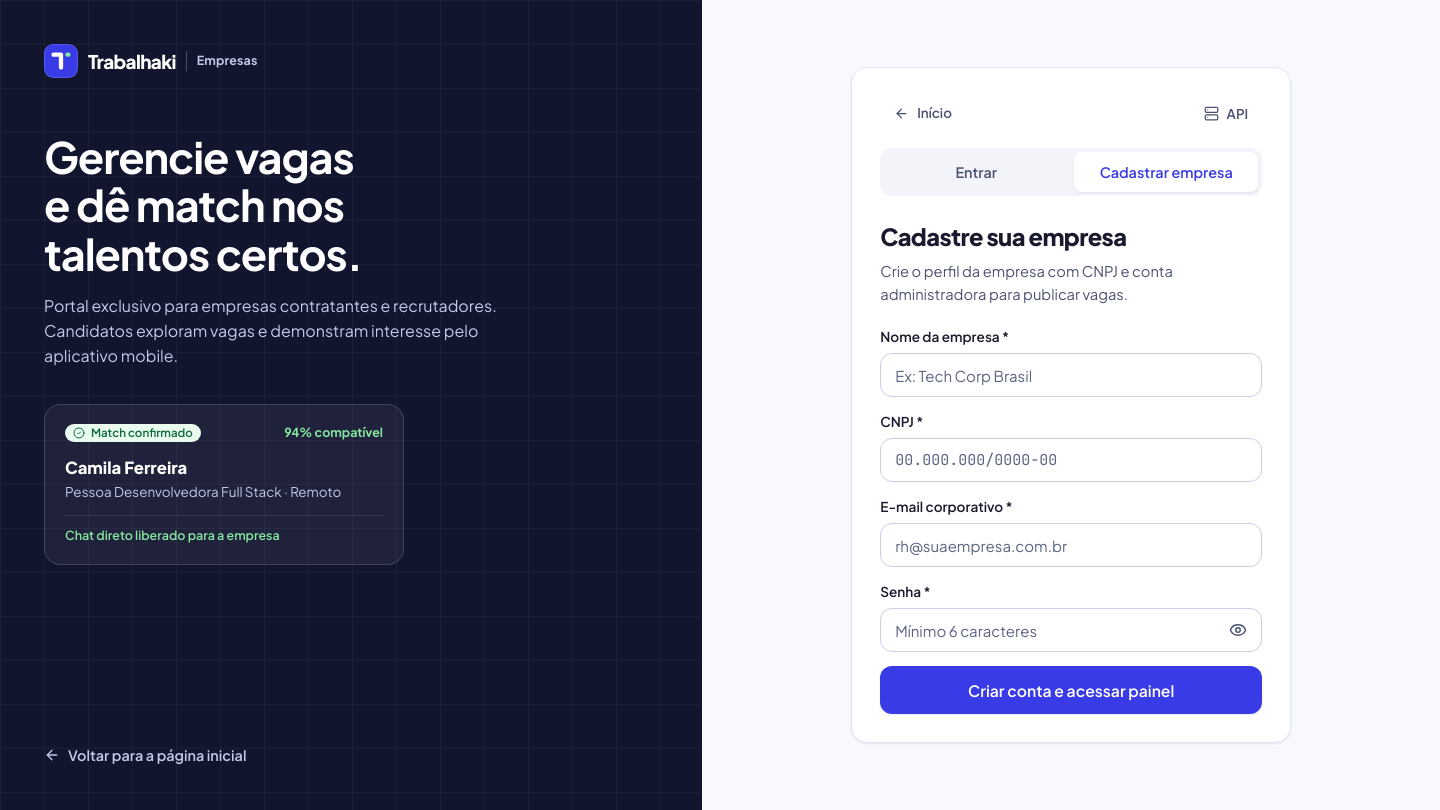
it: Trabalhaki Empresas Web Portal › validates invalid CNPJ on company registration
The image size is (1440, 810).
Type "Empresa Nova" into the field labelled "Nome da empresa *" at (1071, 375), box [880,353,1262,397]
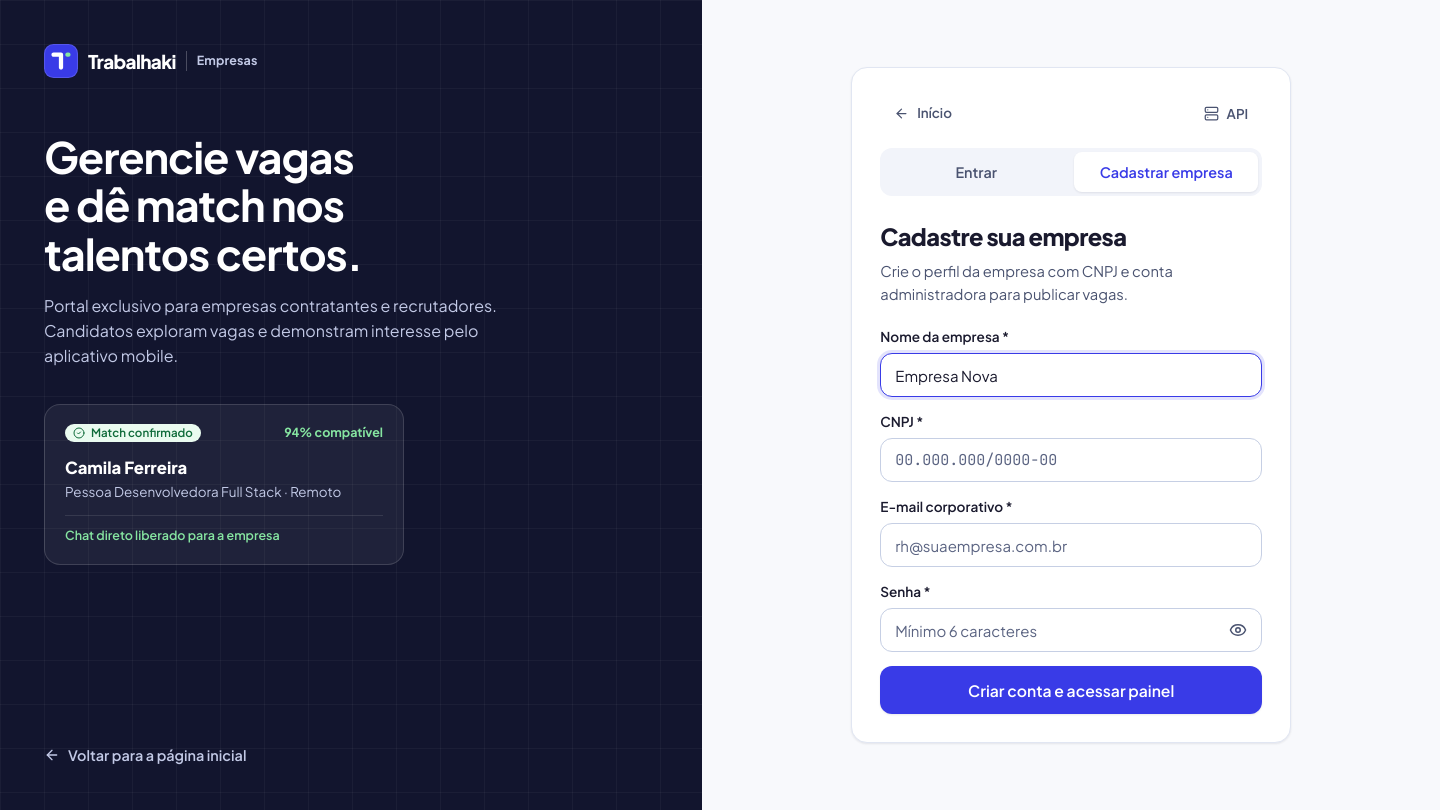
Type "11111111111111" into the field labelled "CNPJ *" at (1071, 460), box [880,438,1262,482]
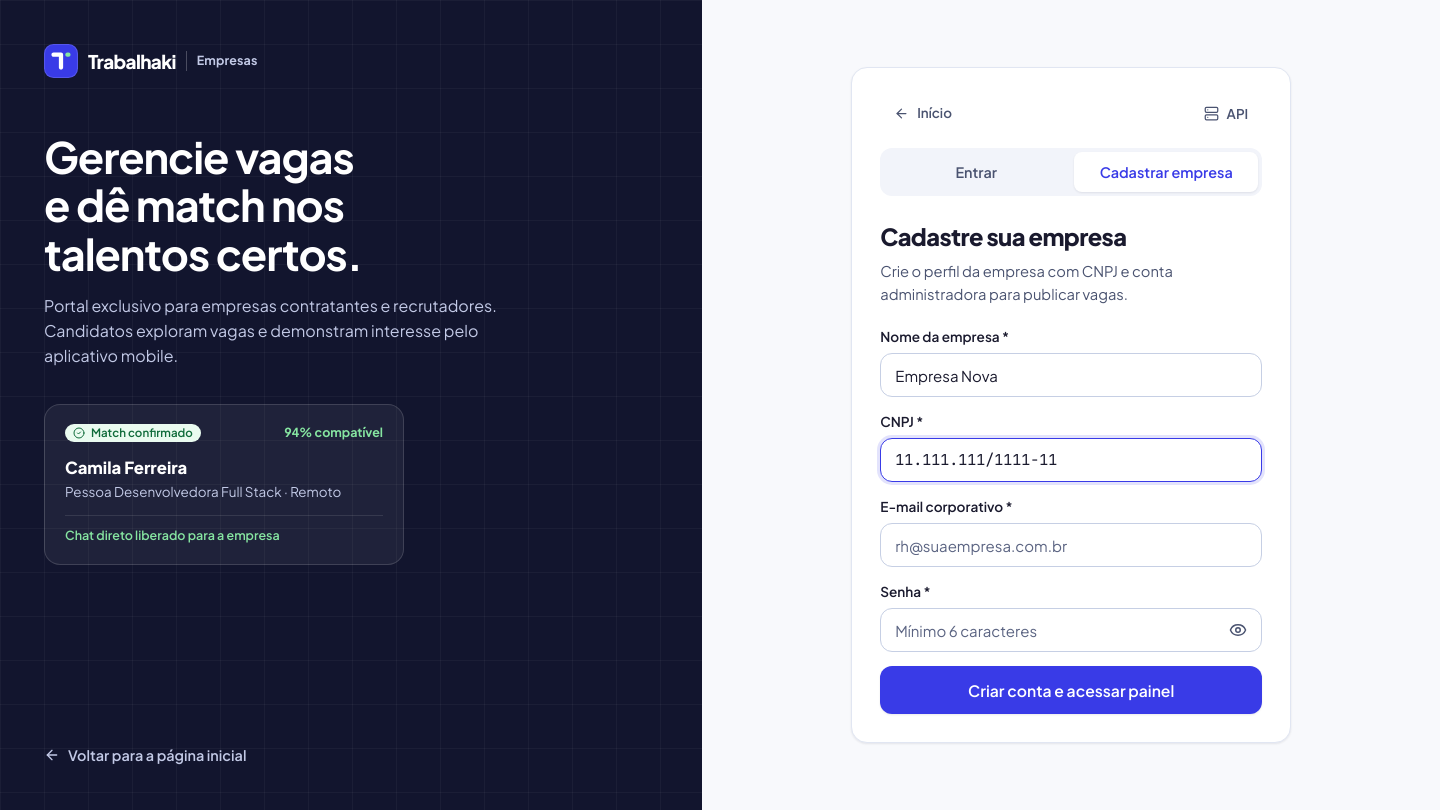
Type "rh@nova.com" into the field labelled "E-mail corporativo *" at (1071, 545), box [880,523,1262,567]
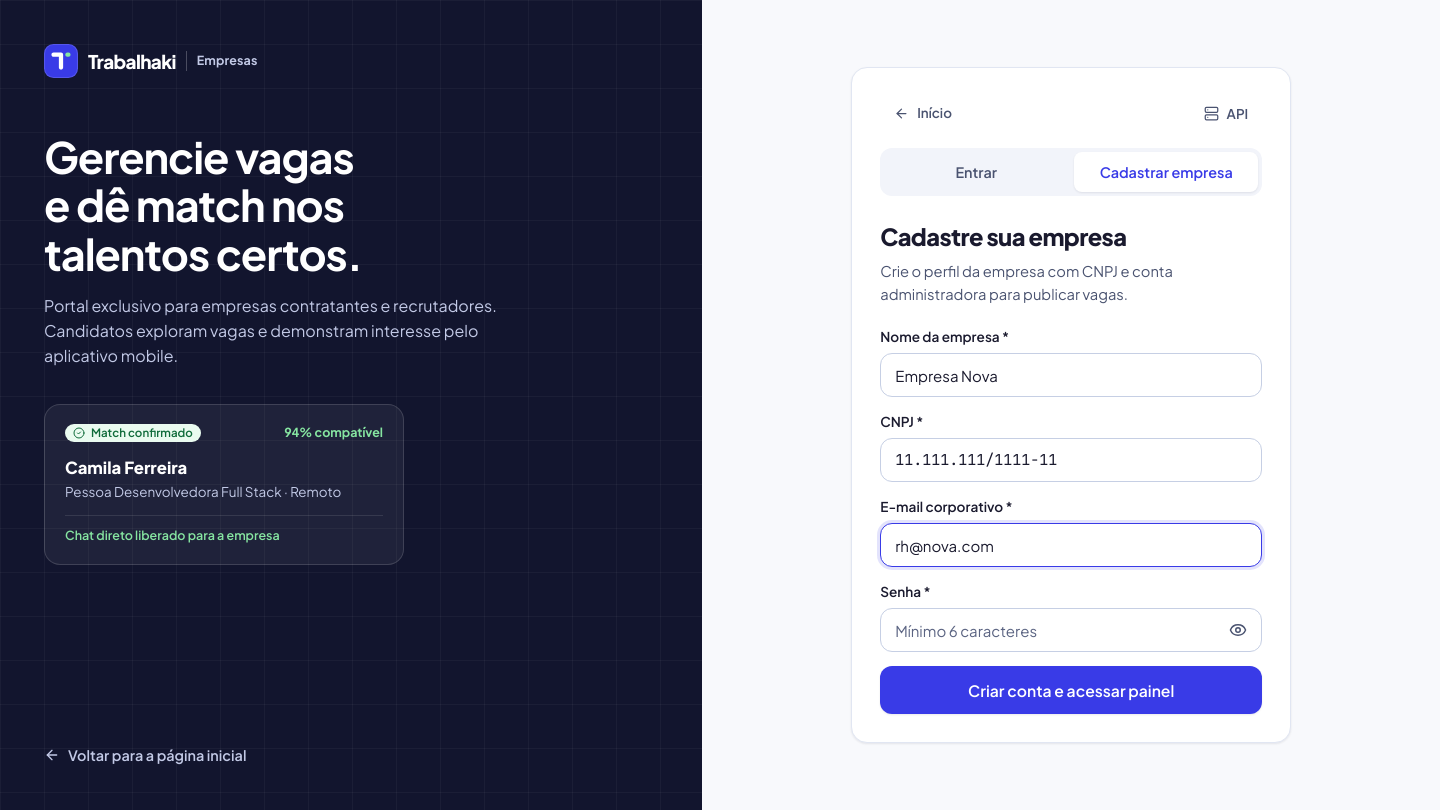
Type "123456" into the password field labelled "Senha *" at (1071, 630), box [880,608,1262,652]
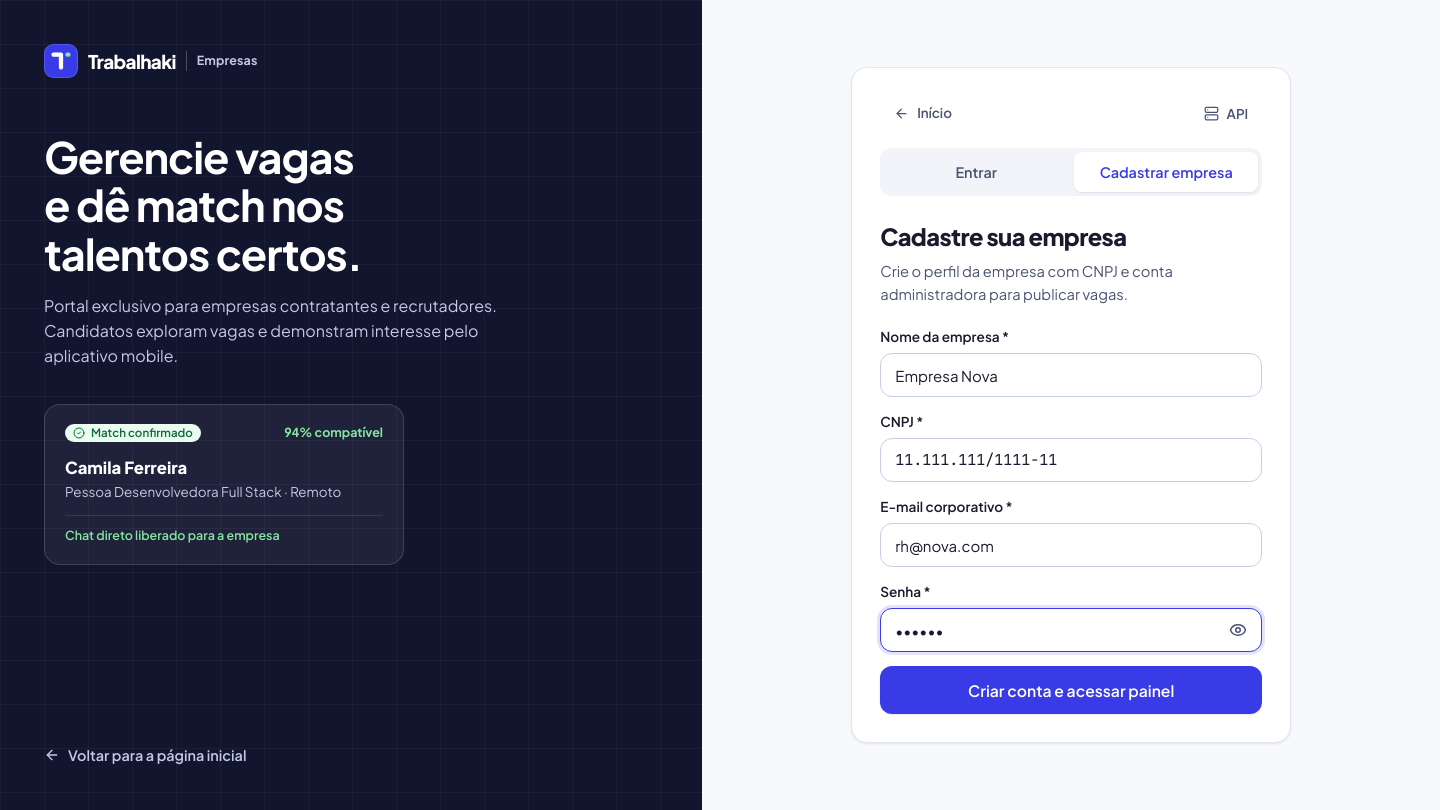
Click the button "Criar conta e acessar painel" at (1071, 690), box [880,666,1262,714]
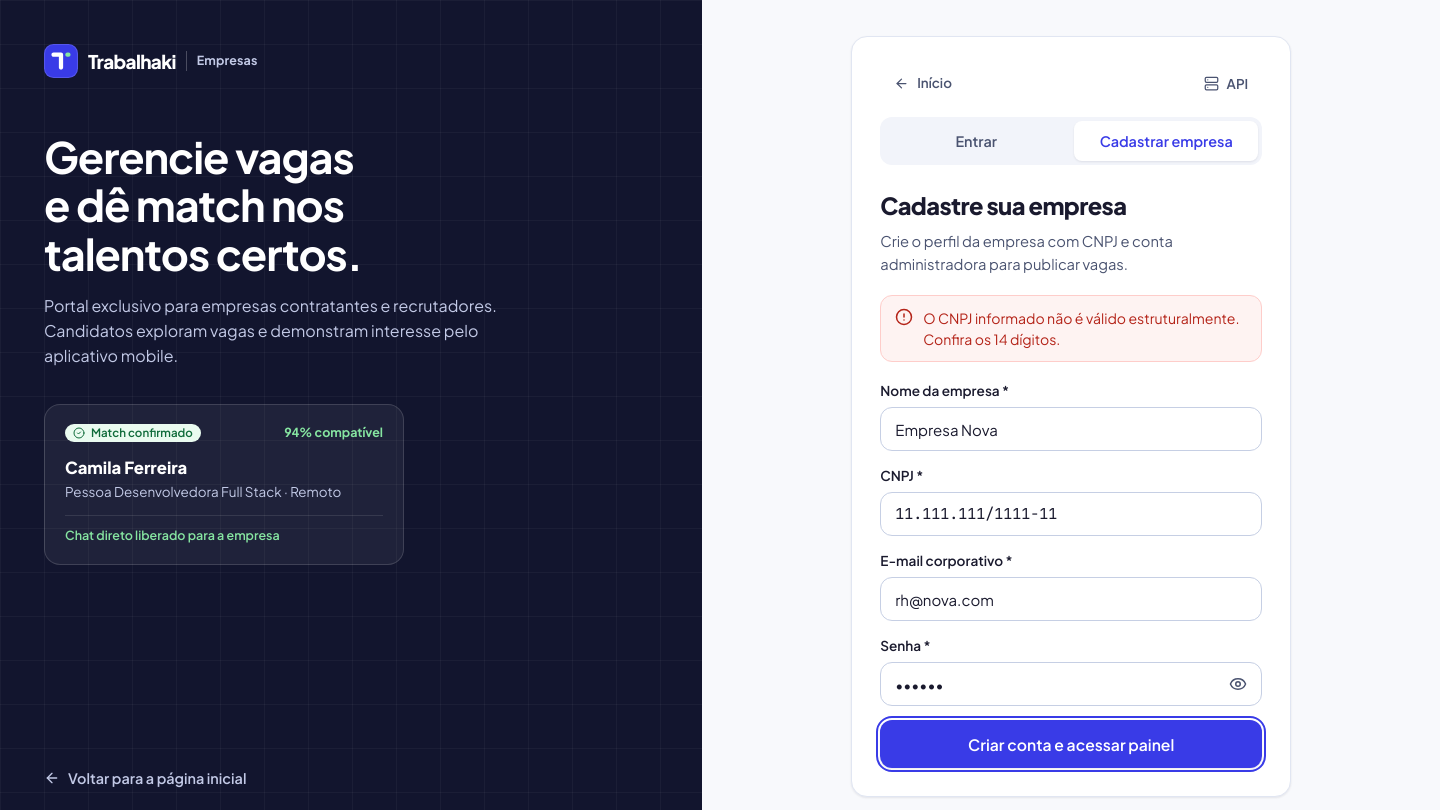
Expected: the text "O CNPJ informado não é válido estruturalmente" is shown, [923,309,1240,348]
